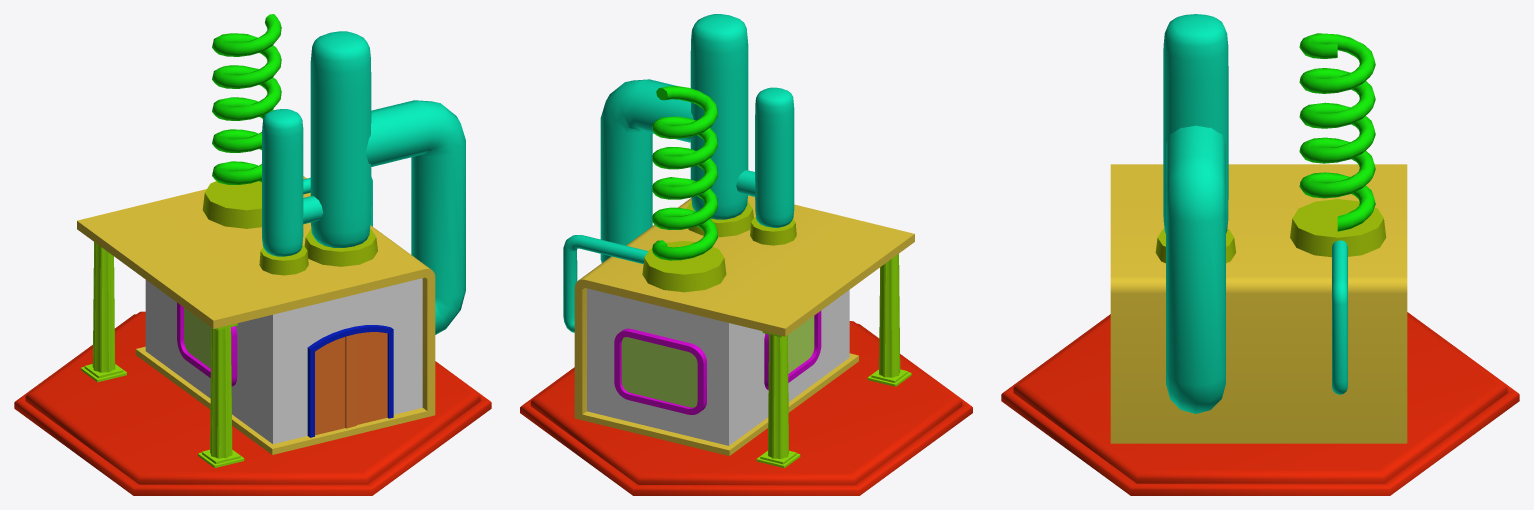
Rendered from ElecGeneratorLvl1.fbx.
The picture shows the model from 3 angles, left to right: view 1: azimuth 30°, elevation 25°; view 2: azimuth 150°, elevation 25°; view 3: azimuth 270°, elevation 25°; orthographic projection. The views are drawn at different scales.
Parts seen in each view (by area): view 1: Building, Details, HexagonBase, Door, Columns; view 2: Building, Details, HexagonBase, Columns; view 3: Building, Details, HexagonBase.
Boxes of the visible parts, x1,y1,x2,y2 form: Building: [77, 176, 435, 454]; Details: [202, 14, 465, 334]; HexagonBase: [14, 311, 491, 495]; Door: [307, 325, 393, 437]; Columns: [81, 242, 244, 467]; Building: [574, 195, 914, 455]; Details: [563, 14, 796, 332]; HexagonBase: [520, 321, 972, 495]; Columns: [756, 254, 911, 467]; Building: [1110, 164, 1407, 443]; Details: [1155, 14, 1386, 413]; HexagonBase: [1001, 312, 1519, 495].
Size of the model in its own units: 327 by 330 by 377.
